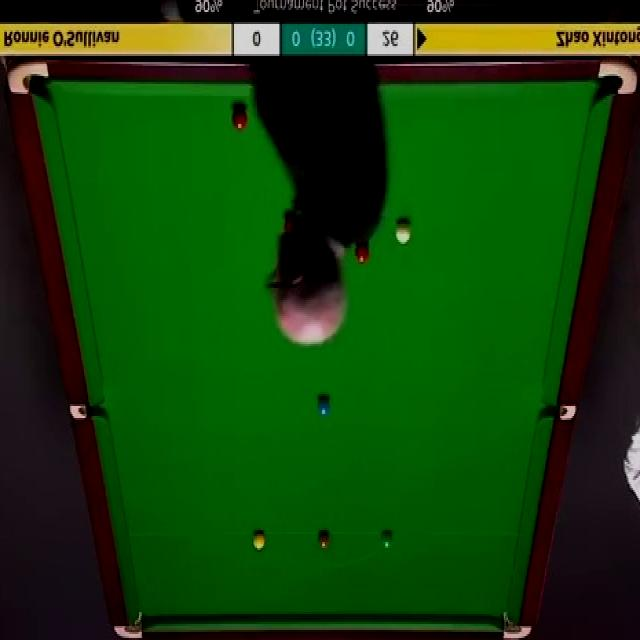blue-ball: (315, 396, 330, 418)
brown-ball: (317, 530, 329, 550)
green-ball: (380, 530, 393, 551)
red-ball: (232, 105, 248, 132), (354, 241, 370, 264), (283, 212, 298, 234)
white-ball: (394, 220, 412, 245)
yellow-ball: (252, 531, 265, 552)
